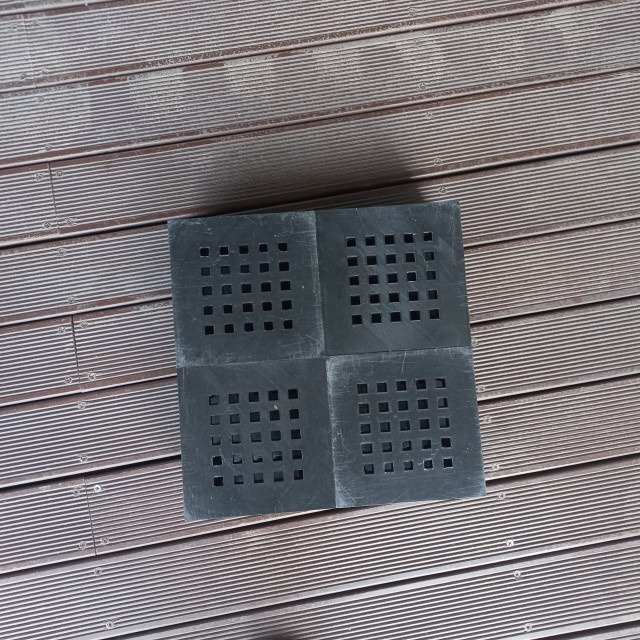pallet: (169, 196, 489, 525)
